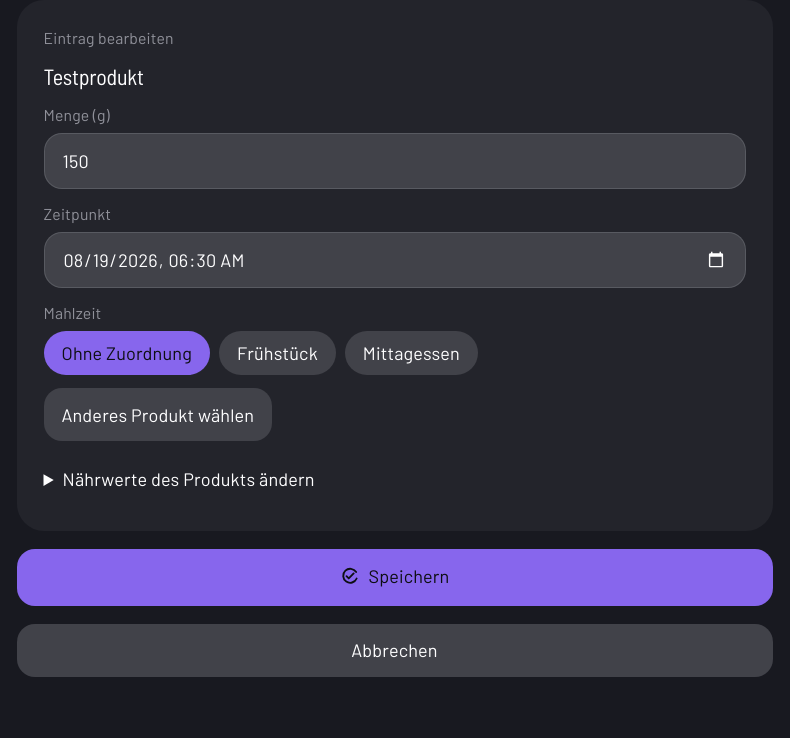
FoodEntryEditForm › rejects an amount of zero without writing
The image size is (790, 738).
Clear the number field labelled "Menge (g)" at (394, 161), box [44,133,746,189]
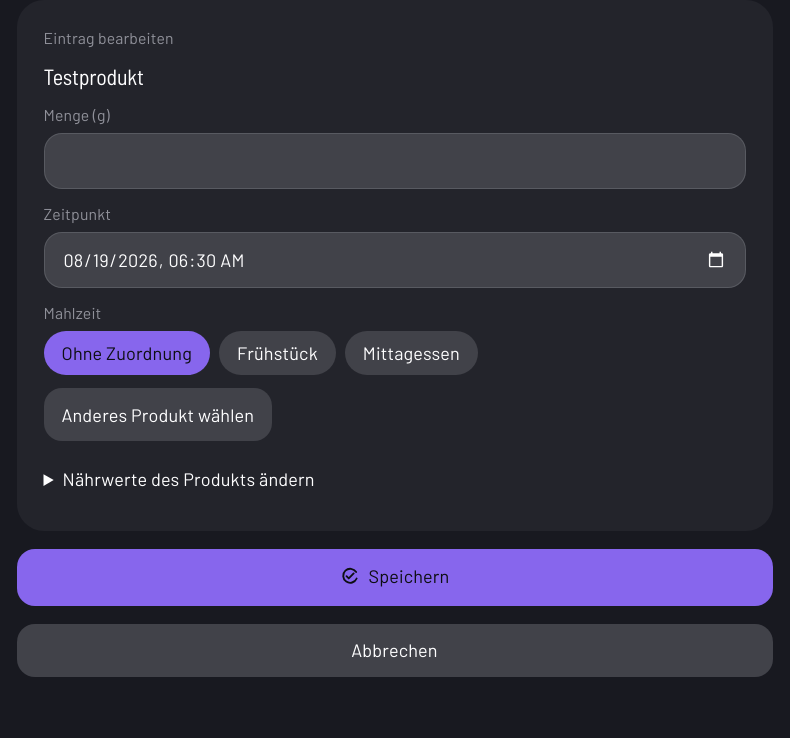
Click the button "Speichern" at (394, 577), box [16,549,772,606]
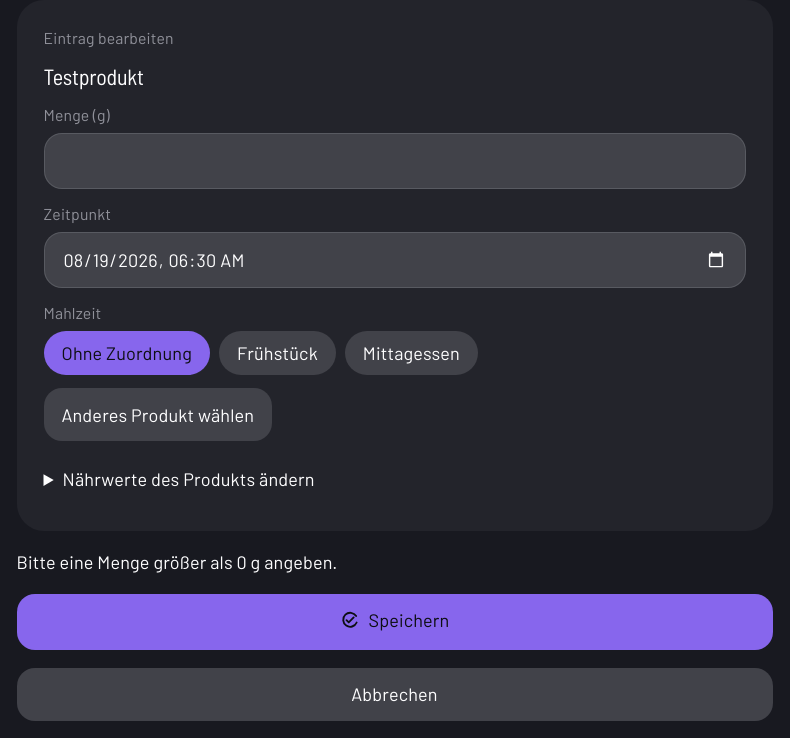
Expected: the message shows "größer als 0", [16,551,337,573]
